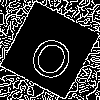O: (25, 25, 82, 85)
